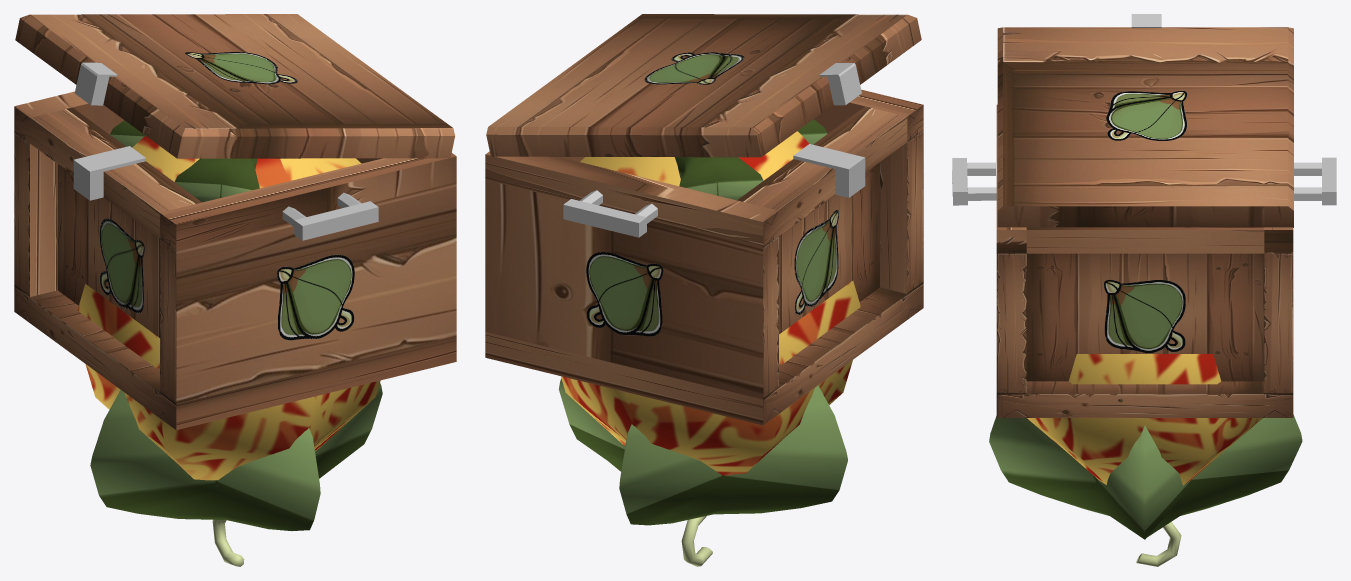
Rendered from MunitionBox.fbx.
3 renders of one model, left to right at view 1: azimuth 30°, elevation 25°; view 2: azimuth 150°, elevation 25°; view 3: azimuth 270°, elevation 25°, orthographic. The views are drawn at different scales.
Parts seen in each view (by area): view 1: MunitionBox, TapBox, Barringtonia, Spaguetti, FoodElement.003, FoodElement, SpaguettiCopy, Barringtonia.001, FoodElement.004, WoodGrip2, LockGray, Barringtonia.002; view 2: MunitionBox, TapBox, Barringtonia, Spaguetti, FoodElement.001, FoodElement, SpaguettiCopy, Barringtonia.002, FoodElement.004, WoodGrip1, LockGray; view 3: TapBox, MunitionBox, Barringtonia, Spaguetti, FoodElement.002, FoodElement.004, WoodGrip2, WoodGrip1.
Part boxes in pixels (x1,y1,x2,y2): MunitionBox: (14,91,456,430); TapBox: (15,14,454,158); Barringtonia: (90,383,382,566); Spaguetti: (77,284,380,480); FoodElement.003: (277,254,354,340); FoodElement: (99,218,144,313); SpaguettiCopy: (132,135,361,188); Barringtonia.001: (174,158,259,202); FoodElement.004: (185,52,297,84); WoodGrip2: (294,201,378,240); LockGray: (74,62,117,105); Barringtonia.002: (110,120,145,147); MunitionBox: (485,89,923,425); TapBox: (486,14,921,157); Barringtonia: (558,378,847,566); Spaguetti: (561,281,860,475); FoodElement.001: (586,252,663,336); FoodElement: (794,209,838,314); SpaguettiCopy: (580,131,808,186); Barringtonia.002: (675,157,763,200); FoodElement.004: (644,52,744,84); WoodGrip1: (563,199,646,237); LockGray: (819,63,861,105); TapBox: (997,27,1293,227); MunitionBox: (996,104,1293,417); Barringtonia: (989,414,1302,566); Spaguetti: (1027,354,1262,485); FoodElement.002: (1103,279,1185,353); FoodElement.004: (1106,90,1187,140); WoodGrip2: (952,158,967,205); WoodGrip1: (1322,157,1336,205).
Size of the model in its own units: 215 by 364 by 260.
